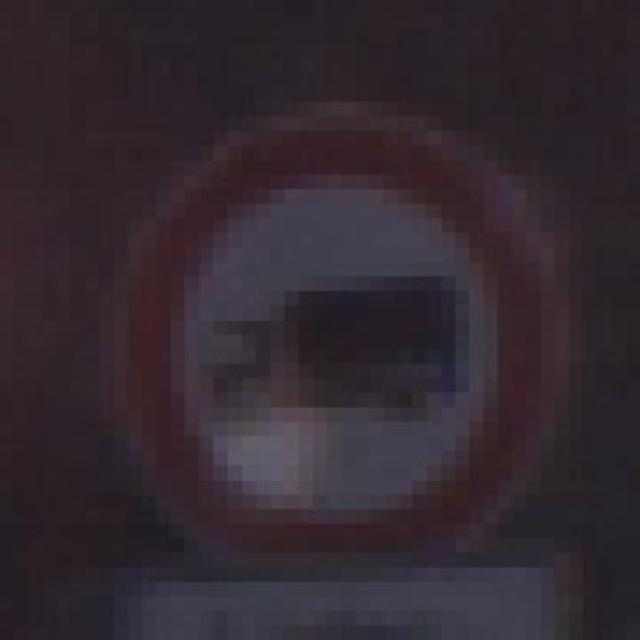Truck traffic is prohibited: (99, 102, 584, 568)
